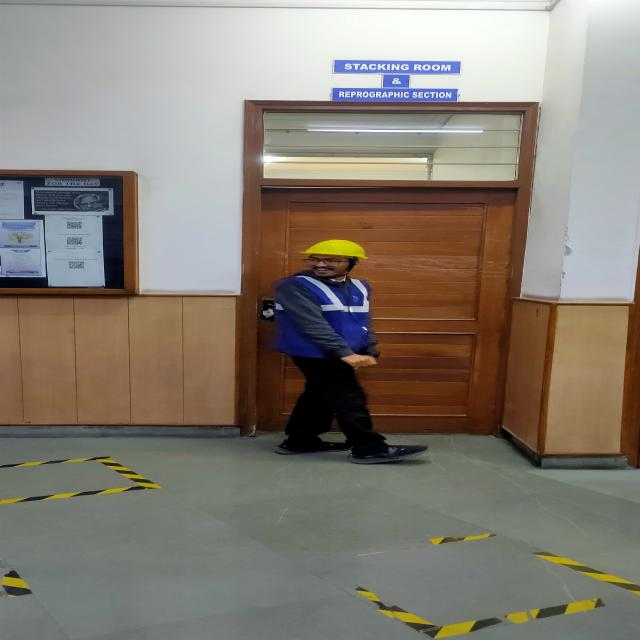safe: (273, 240, 427, 464)
